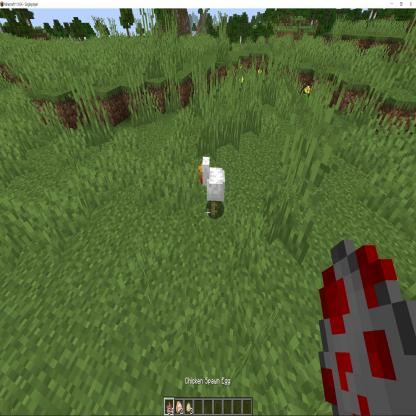minecraft-pigs: (197, 154, 228, 220)
